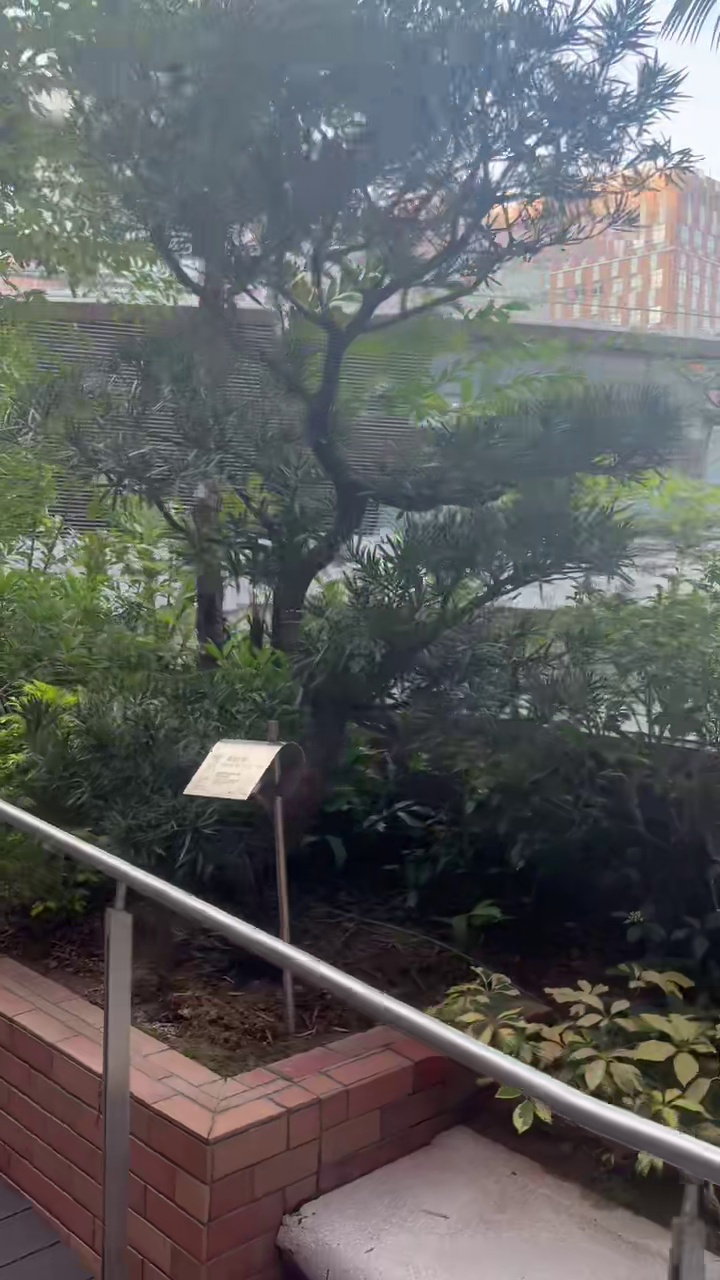Podocarpus macrophyllus: (66, 0, 688, 775)
